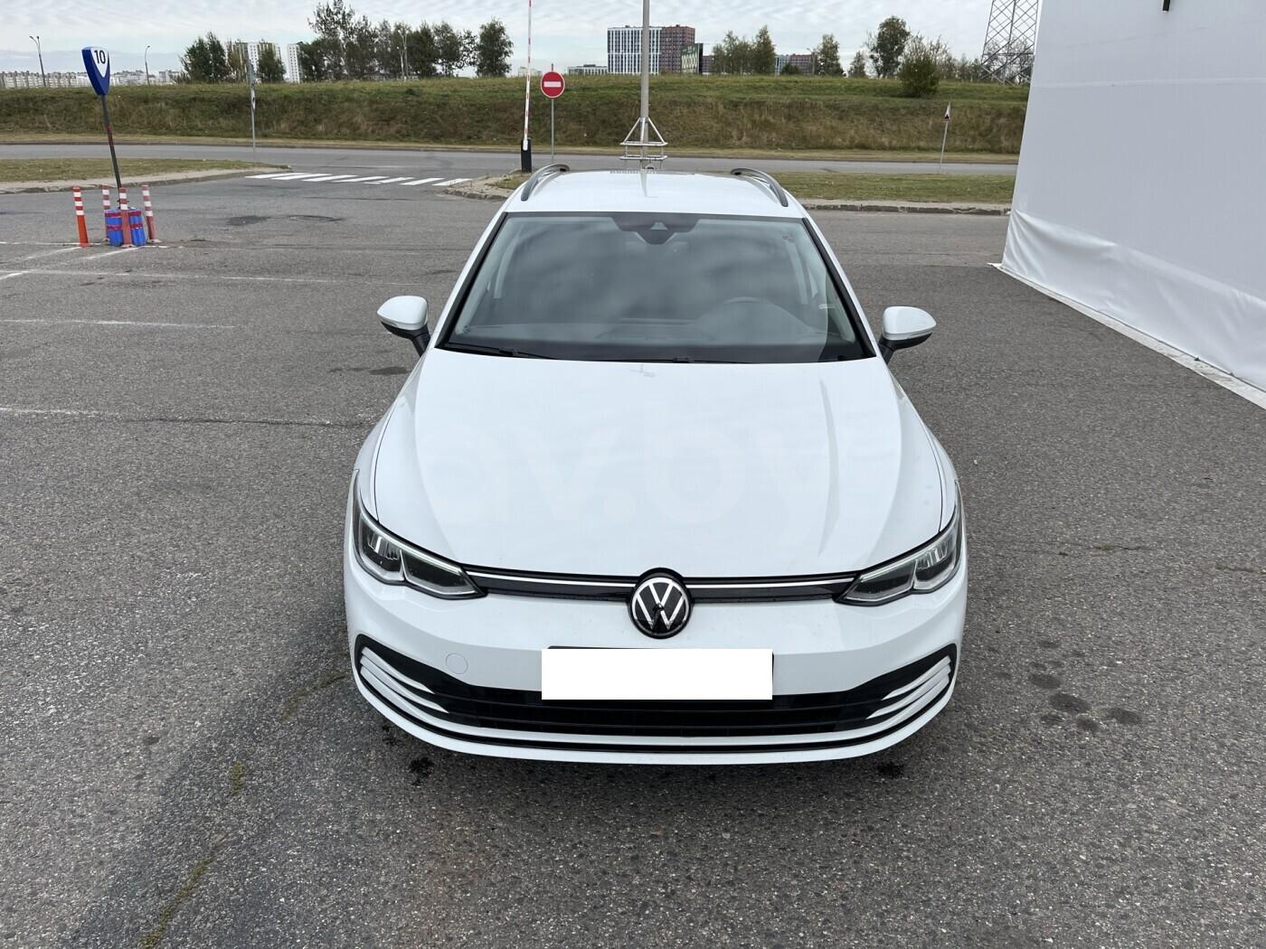Golf_2019: (335, 167, 971, 775)
